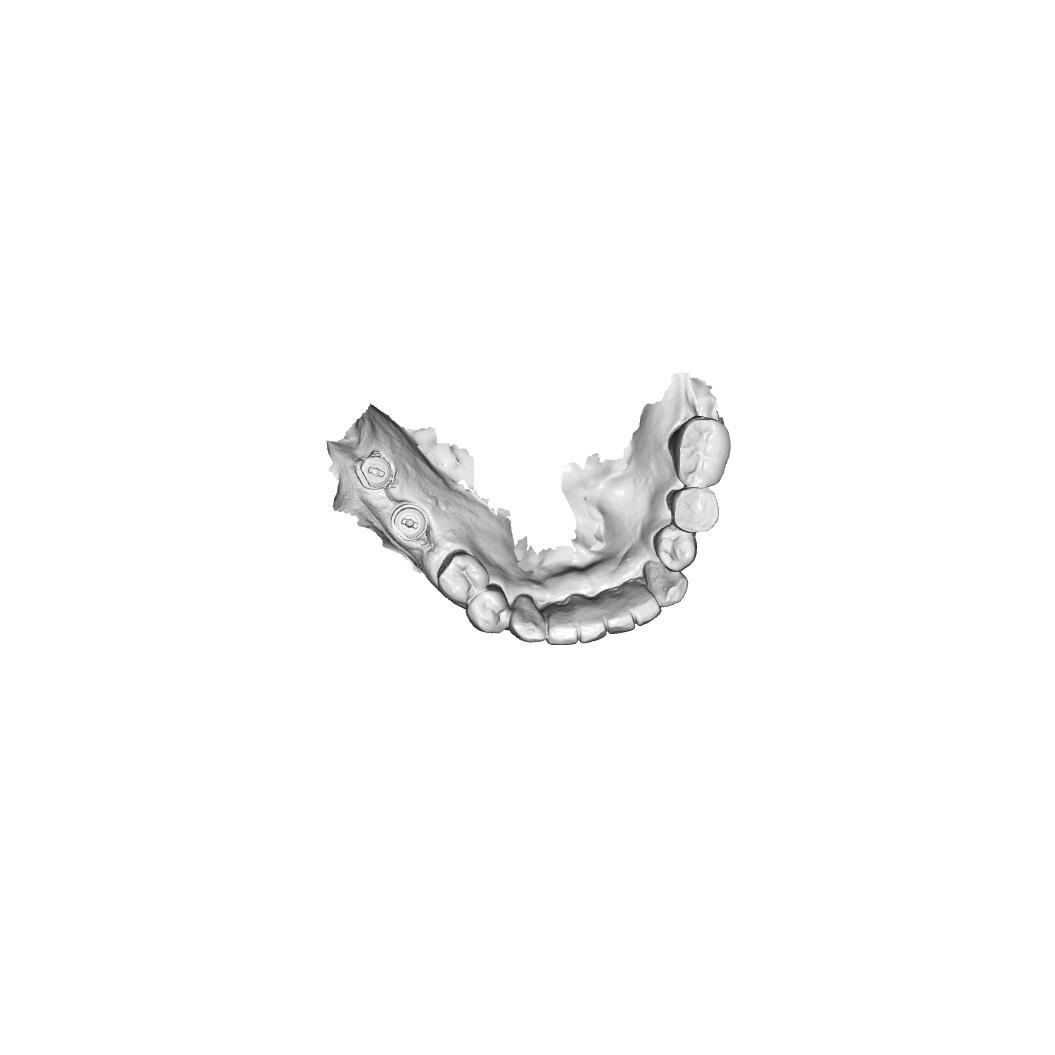canine: (642, 559, 686, 602), (512, 595, 551, 643)
implant_minus: (357, 449, 398, 493), (389, 503, 430, 545)
incisor: (604, 583, 635, 634), (576, 596, 610, 641), (549, 601, 581, 648), (626, 582, 661, 620)
molar: (675, 420, 729, 488)
premolar: (437, 550, 486, 602), (671, 487, 721, 534), (466, 592, 507, 633), (657, 527, 692, 570)
